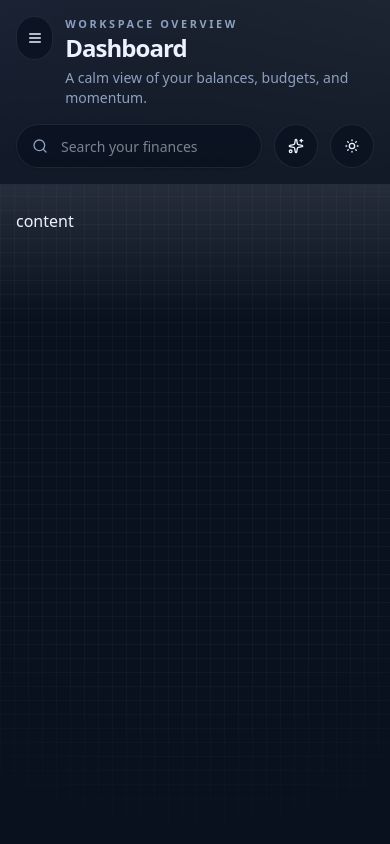
it: AppShell navigation › opens mobile navigation from the topbar menu button
What coordinates should you click on to do the following:
click the button named "Open navigation"
I would click on:
 (35, 38)
Its box is [16, 16, 53, 60].
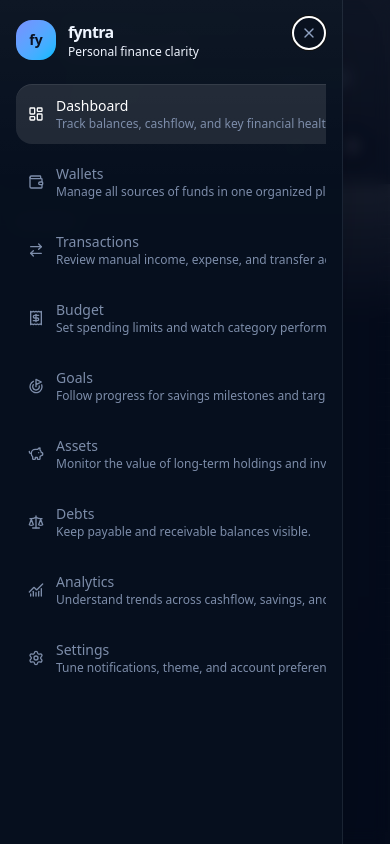
Expected: the dialog is shown
